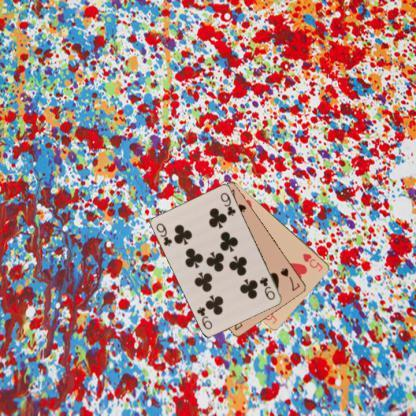5h: (300, 250, 324, 272)
7s: (278, 265, 302, 292)
9c: (154, 220, 174, 248), (257, 274, 277, 301)
